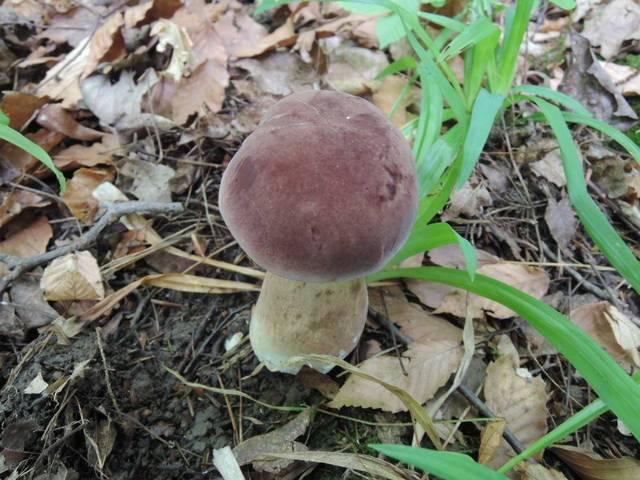poisonous_mushroom: (216, 87, 419, 376)
